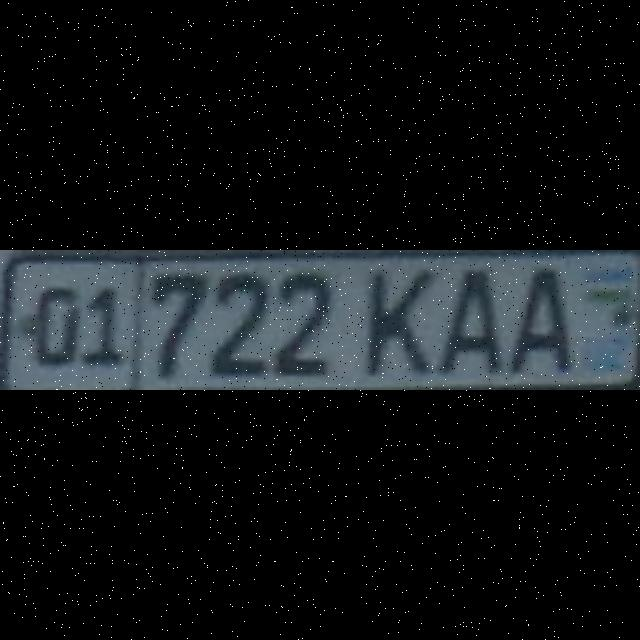0: (32, 284, 76, 362)
1: (76, 284, 122, 362)
2: (209, 270, 265, 374), (271, 270, 327, 370)
7: (149, 269, 203, 376)
A: (437, 268, 499, 368), (508, 267, 566, 371)
K: (364, 267, 428, 371)
